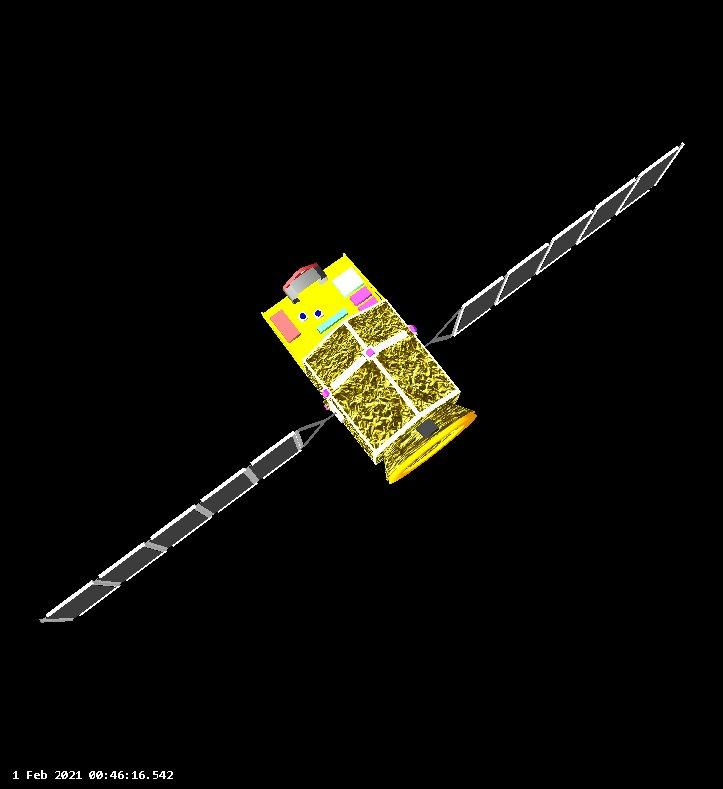antenna: (282, 261, 322, 297)
body: (259, 251, 464, 464)
solar: (40, 425, 305, 628), (453, 140, 686, 338)
thruster: (387, 400, 479, 484), (365, 348, 376, 358), (321, 389, 330, 399), (409, 325, 418, 332), (324, 403, 330, 411)
